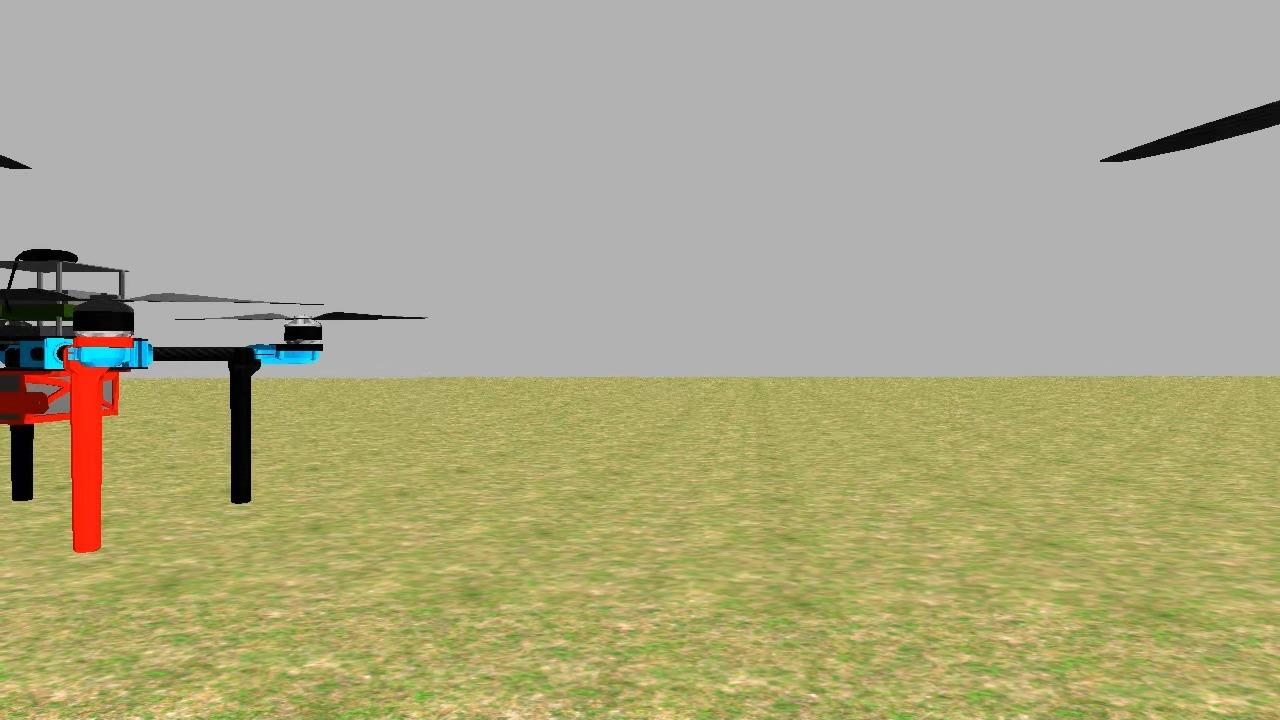UAV: (0, 244, 334, 557)
